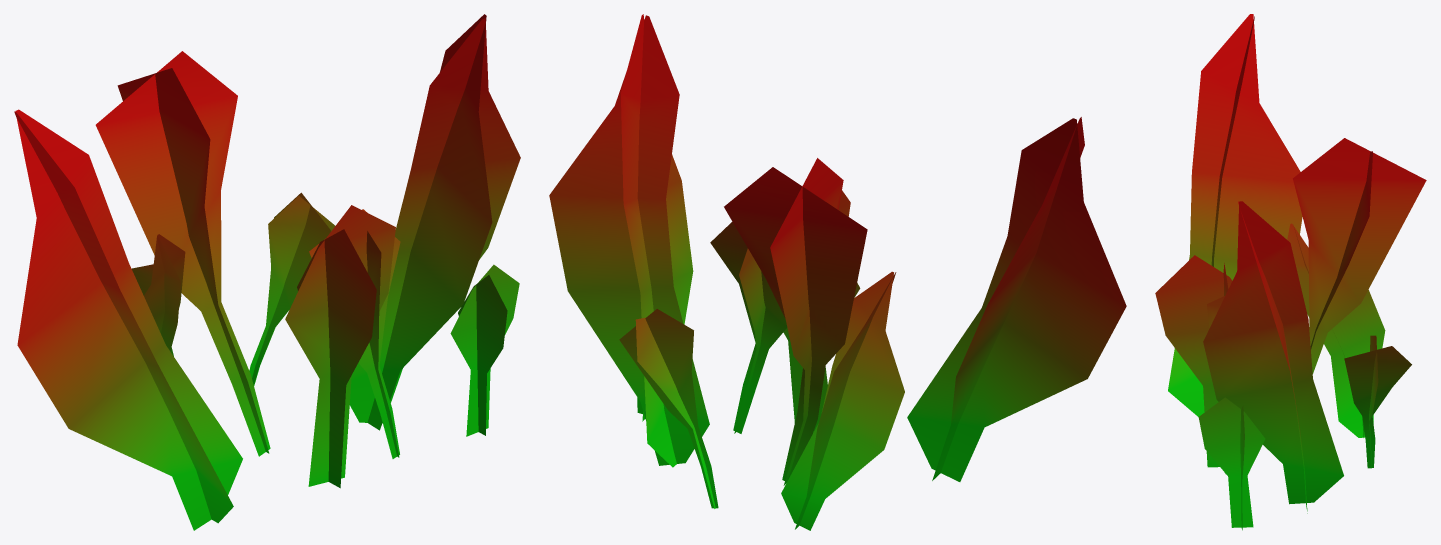
File: White Everlasting_LOD1_Var12_ucvobbbia.fbx
3 renders of one model, left to right at view 1: azimuth 30°, elevation 25°; view 2: azimuth 150°, elevation 25°; view 3: azimuth 270°, elevation 25°, orthographic. The views are drawn at different scales.
Visible parts, largest first — view 1: _4cdf_Var12_LOD1; view 2: _4cdf_Var12_LOD1; view 3: _4cdf_Var12_LOD1.
Boxes of the visible parts, x1,y1,x2,y2 form: _4cdf_Var12_LOD1: (14, 14, 520, 530); _4cdf_Var12_LOD1: (549, 14, 1126, 530); _4cdf_Var12_LOD1: (1155, 14, 1426, 530).
Size of the model in its own units: 15.42 by 11.64 by 8.29.
